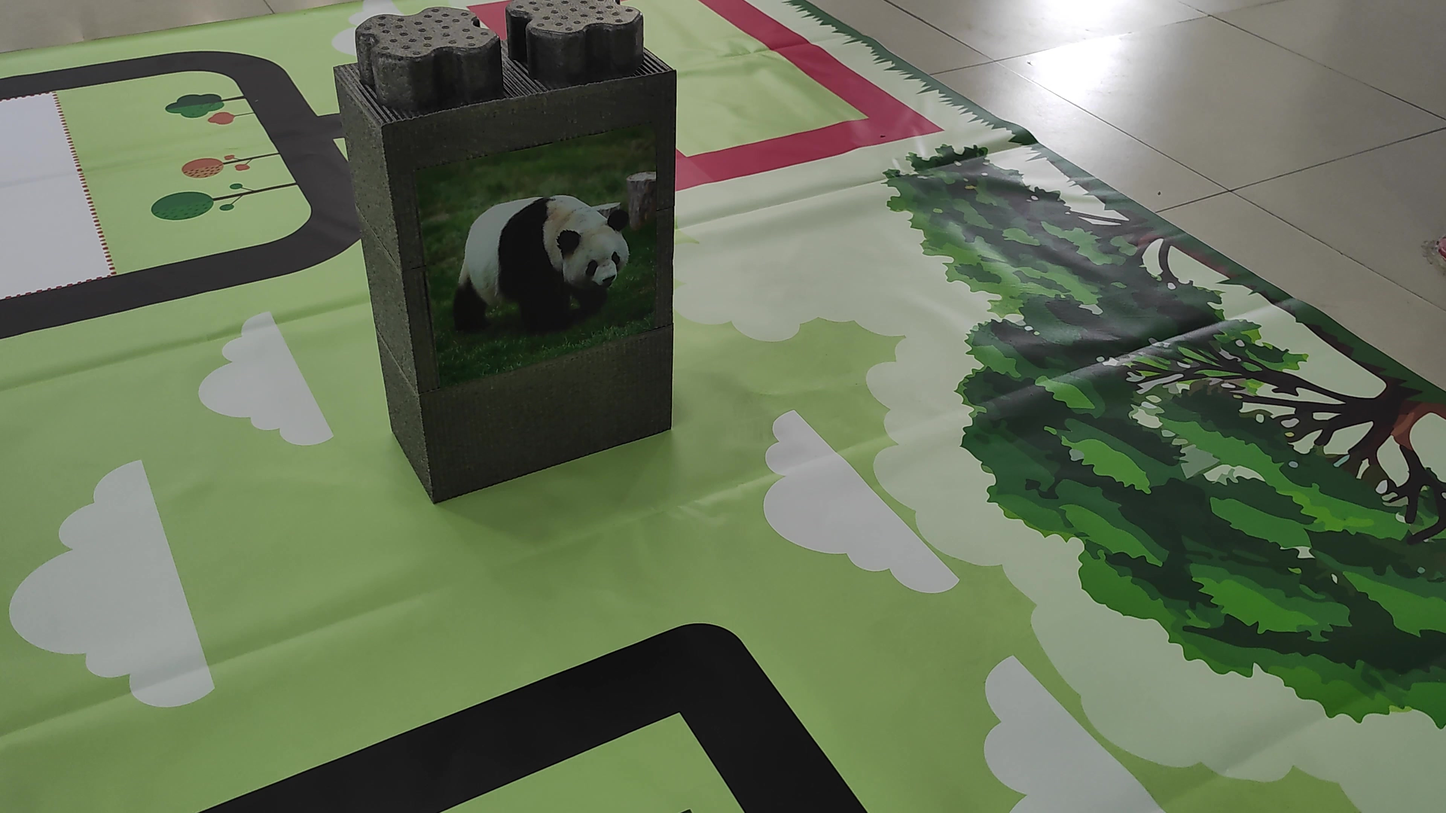panda: (445, 169, 641, 332)
